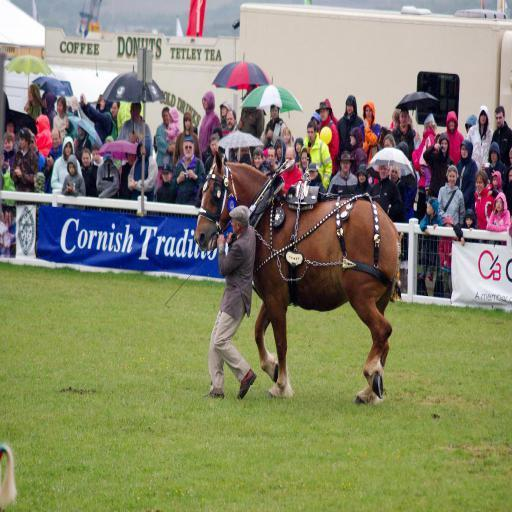horse: (194, 148, 402, 404)
